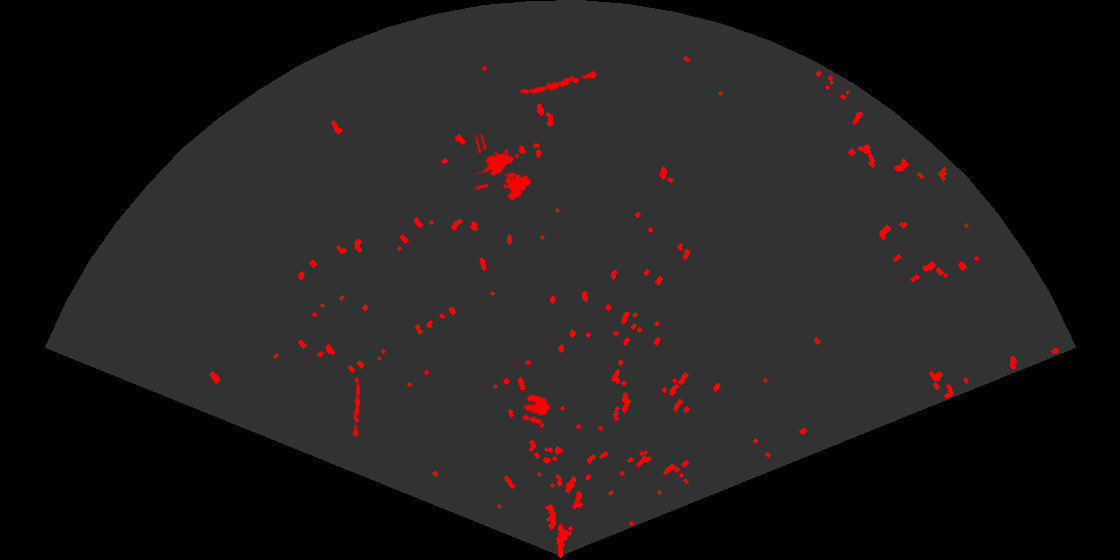ball: (520, 393, 552, 426)
cage: (476, 134, 533, 202)
chain: (518, 69, 602, 96), (351, 375, 362, 437)
